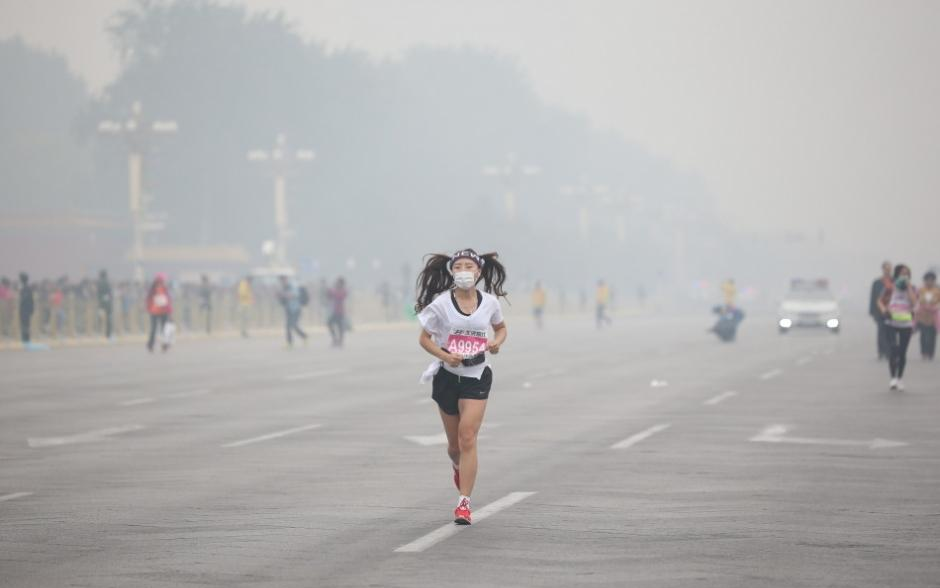person: (414, 246, 508, 527), (877, 263, 922, 393), (867, 259, 906, 360), (776, 276, 840, 335), (274, 273, 310, 348), (145, 271, 176, 354), (911, 267, 938, 362), (320, 276, 350, 348), (18, 271, 35, 348), (97, 268, 114, 342), (238, 271, 255, 341), (529, 276, 547, 330), (593, 278, 612, 328)
